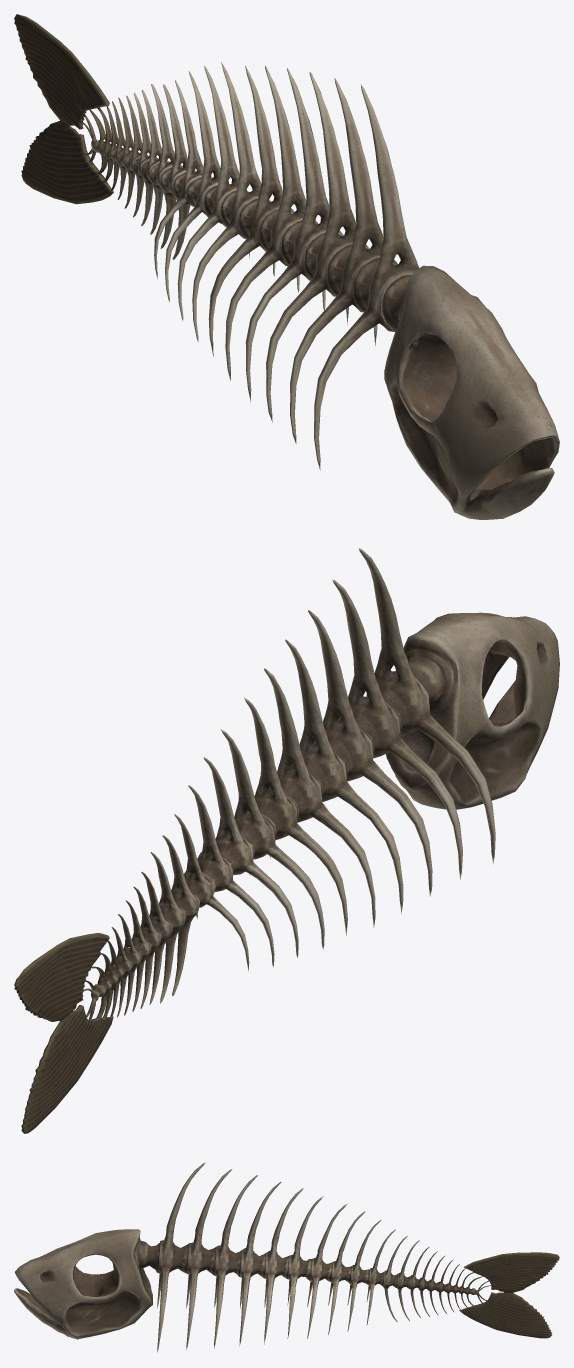
Rendered from fish_skeleton.glb.
3 views of the same model, one above another, from view 1: azimuth 30°, elevation 25°; view 2: azimuth 150°, elevation 25°; view 3: azimuth 270°, elevation 25° (orthographic). The views are drawn at different scales.
Visible parts, largest first — view 1: Object_2; view 2: Object_2; view 3: Object_2.
Part boxes in pixels (left/top/right/bottom): Object_2: left=14, top=14, right=559, bottom=519; Object_2: left=14, top=548, right=559, bottom=1133; Object_2: left=14, top=1162, right=559, bottom=1352.
Bounding box in the file's own units: 3.84 × 6.87 × 19.29.
1 material, 1 textured.
